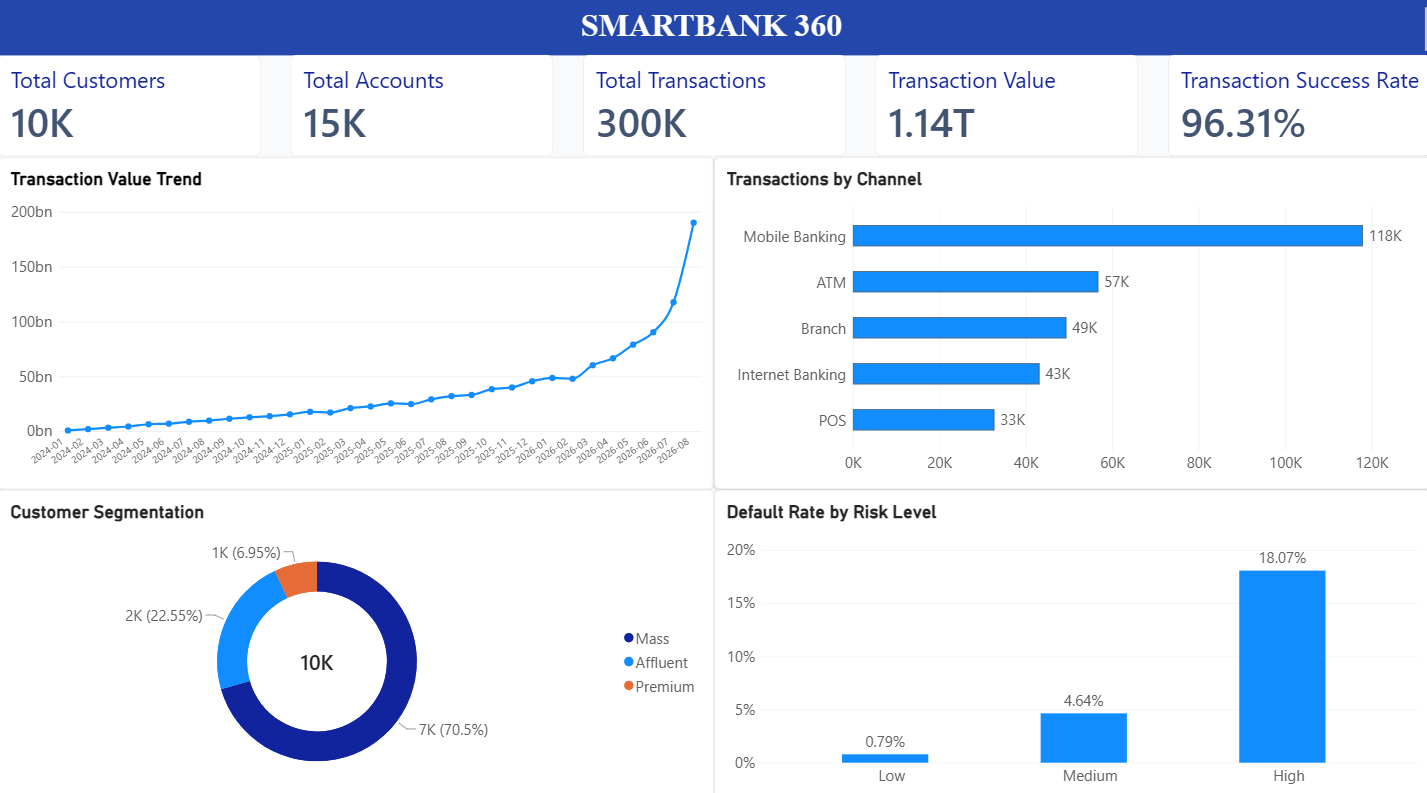

Layout of this report page (visuals, bound fields, positions):
{"tool":"powerbi","page":{"name":"Executive Overview","canvas":[1920,1080],"ordinal":0},"visuals":[{"type":"cardVisual","fields":{"Data":["KPI_Measures.Total Customers"]},"box":[0,79.5,352.3,136.4],"z":0},{"type":"shape","box":[0,0,1920.4,80],"z":1000},{"type":"textbox","box":[0,15,1920,63],"z":2000},{"type":"lineChart","title":"Transaction Value Trend","fields":{"Category":["DimDate.Year Month"],"Y":["KPI_Measures.Transaction Value"]},"box":[0,215.9,960.2,445.1],"z":3000},{"type":"cardVisual","fields":{"Data":["KPI_Measures.Total Accounts"]},"box":[392,79.5,352.3,136.4],"z":4000},{"type":"cardVisual","fields":{"Data":["KPI_Measures.Total Transactions"]},"box":[784.1,79.5,352.3,136.4],"z":5000},{"type":"cardVisual","fields":{"Data":["KPI_Measures.Transaction Value"]},"box":[1176.1,79.5,352.3,136.4],"z":6000},{"type":"cardVisual","fields":{"Data":["KPI_Measures.Transaction Success Rate"]},"box":[1568.1,79.5,352.3,136.4],"z":7000},{"type":"clusteredBarChart","title":"Transactions by Channel","fields":{"Category":["transactions.transaction_channel"],"Y":["KPI_Measures.Total Transactions"]},"box":[960.2,215.9,960.2,445.1],"z":8000},{"type":"donutChart","title":"Customer Segmentation","fields":{"Category":["customers.customer_segment"],"Y":["KPI_Measures.Total Customers"]},"box":[0,661,960.2,418.5],"z":9000},{"type":"clusteredColumnChart","title":"Default Rate by Risk Level","fields":{"Category":["loans.risk_level"],"Y":["KPI_Measures.Default Rate"]},"box":[960.2,661,960.2,418.5],"z":10000}]}

Visuals, with their boxes in screenshot pixels (x1, y1, x2, y2), scaled from the page's 1920x1080 canvas onto the 1427x793 screenshot:
cardVisual - KPI_Measures.Total Customers: BBox(0, 58, 262, 159)
shape: BBox(0, 0, 1426, 59)
textbox: BBox(0, 11, 1426, 57)
"Transaction Value Trend" lineChart: BBox(0, 159, 714, 485)
cardVisual - KPI_Measures.Total Accounts: BBox(291, 58, 553, 159)
cardVisual - KPI_Measures.Total Transactions: BBox(583, 58, 845, 159)
cardVisual - KPI_Measures.Transaction Value: BBox(874, 58, 1136, 159)
cardVisual - KPI_Measures.Transaction Success Rate: BBox(1165, 58, 1426, 159)
"Transactions by Channel" clusteredBarChart: BBox(714, 159, 1426, 485)
"Customer Segmentation" donutChart: BBox(0, 485, 714, 792)
"Default Rate by Risk Level" clusteredColumnChart: BBox(714, 485, 1426, 792)
